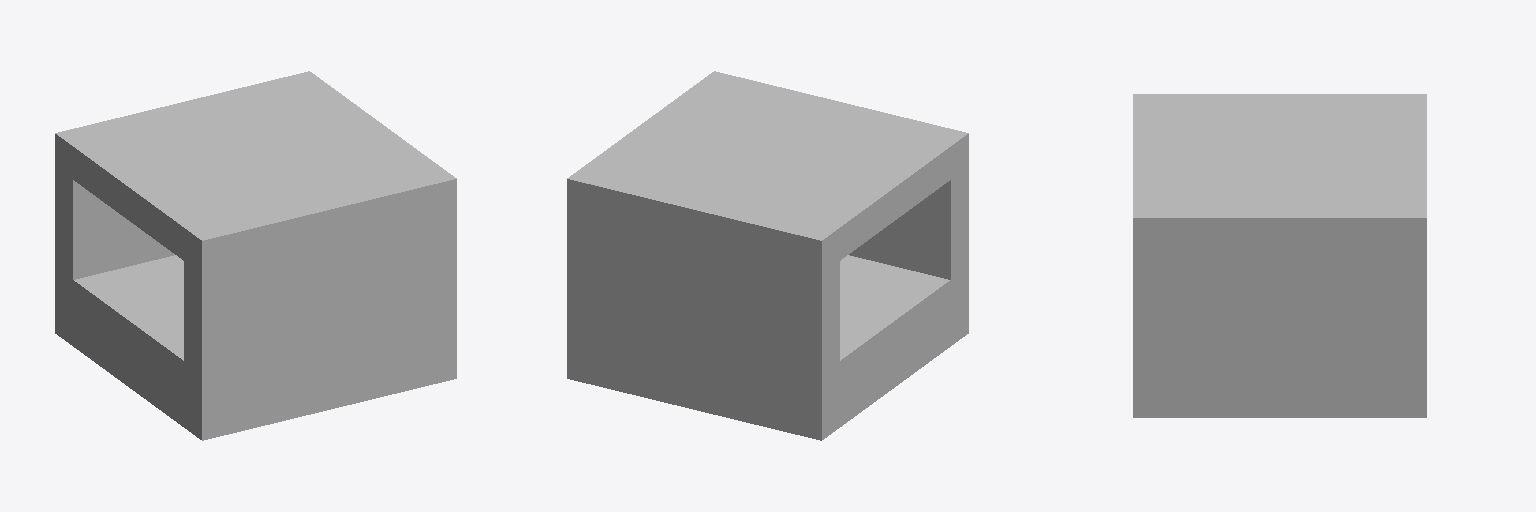
The model's file is crane_buffer.obj.
The picture shows the model from 3 angles: view 1: azimuth 30°, elevation 25°; view 2: azimuth 150°, elevation 25°; view 3: azimuth 270°, elevation 25°; orthographic projection.
Visible parts, largest first — view 1: Side, Top_Top.001, Belt, InnerSide; view 2: Side, Top_Top.001, Belt, InnerSide; view 3: Back, Top_Top.001.
Part boxes in pixels (x1,y1,x2,y2): Side: (55, 134, 456, 440); Top_Top.001: (55, 71, 456, 240); Belt: (74, 255, 183, 360); InnerSide: (73, 180, 174, 279); Side: (567, 134, 968, 440); Top_Top.001: (567, 71, 968, 240); Belt: (840, 255, 949, 360); InnerSide: (849, 180, 950, 279); Back: (1133, 218, 1426, 417); Top_Top.001: (1133, 94, 1426, 217).
Size of the model in its own units: 1 by 0.75 by 1.